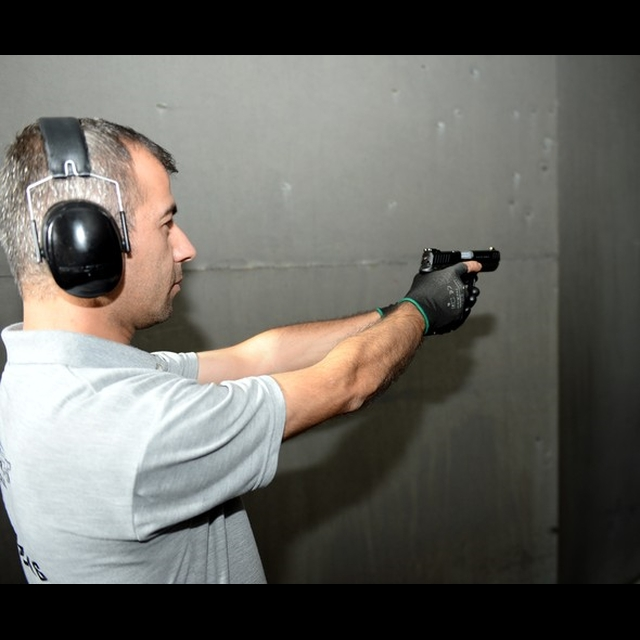SILAH: (418, 229, 506, 320)
